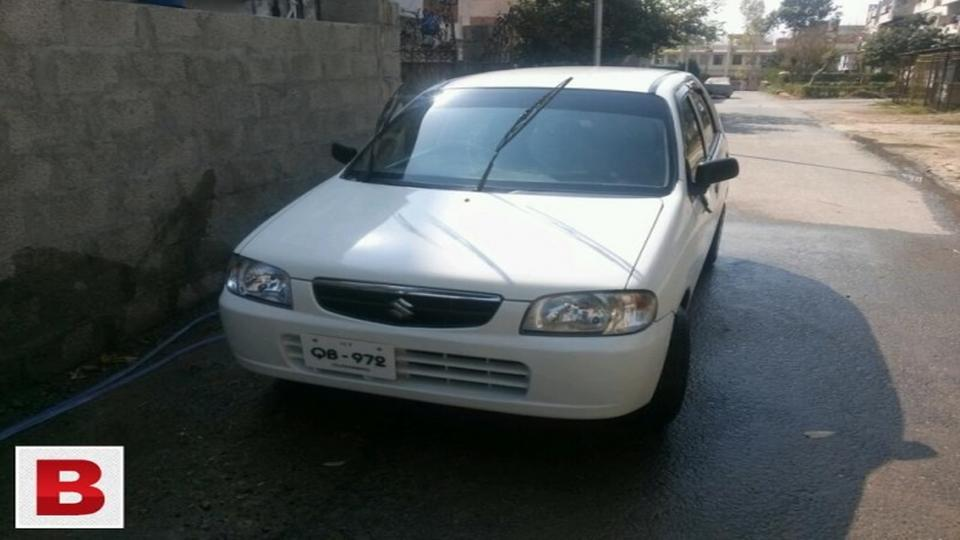NumberPlate: (302, 334, 408, 384)
